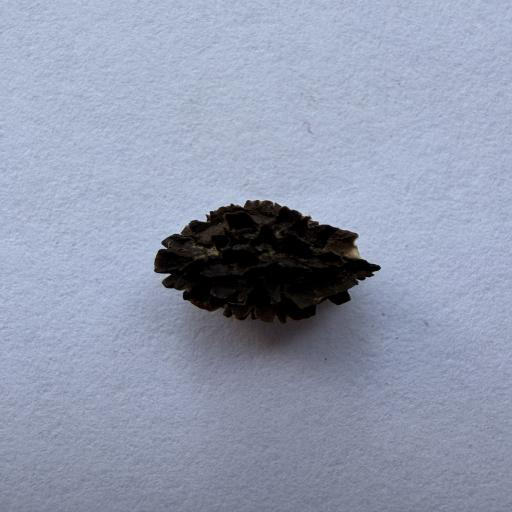papaya_seed: (134, 186, 402, 342)
